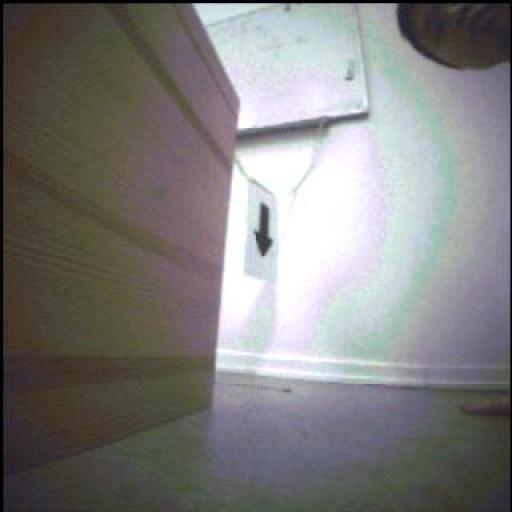Arrow: (255, 204, 273, 257)
